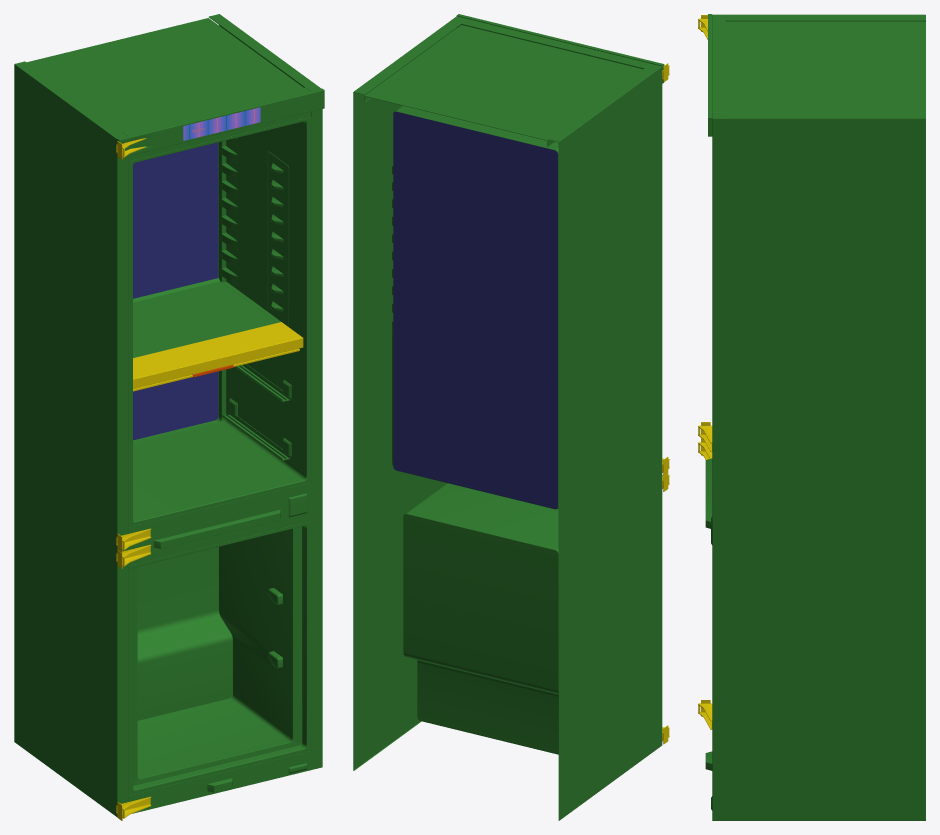
The model's file is SM_Fridge_Base.fbx.
3 views of the same model, side by side, from view 1: azimuth 30°, elevation 25°; view 2: azimuth 150°, elevation 25°; view 3: azimuth 270°, elevation 25° (orthographic). The views are drawn at different scales.
Visible parts, largest first — view 1: SM_Fridge_Base; view 2: SM_Fridge_Base; view 3: SM_Fridge_Base.
Boxes of the visible parts, x1,y1,x2,y2 form: SM_Fridge_Base: (14,14,324,820); SM_Fridge_Base: (353,14,669,820); SM_Fridge_Base: (698,14,925,820).
Size of the model in its own units: 55.88 by 176 by 51.63.
Materials: 7 (2 with a texture image).
